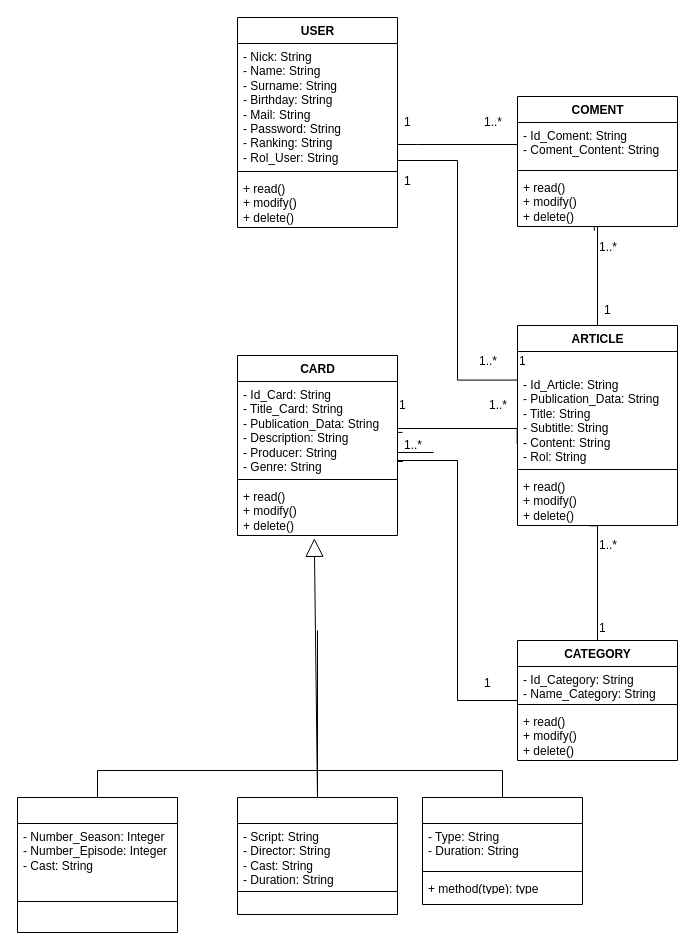
Some shapes in this 695 by 950 pixel diagram are drawn without their labels. Each missing label, with the box of its shape:
CARD_FILM: (236, 796, 398, 914)
CARD_GAME: (422, 796, 582, 904)
CARD_SERIE: (16, 796, 178, 932)
